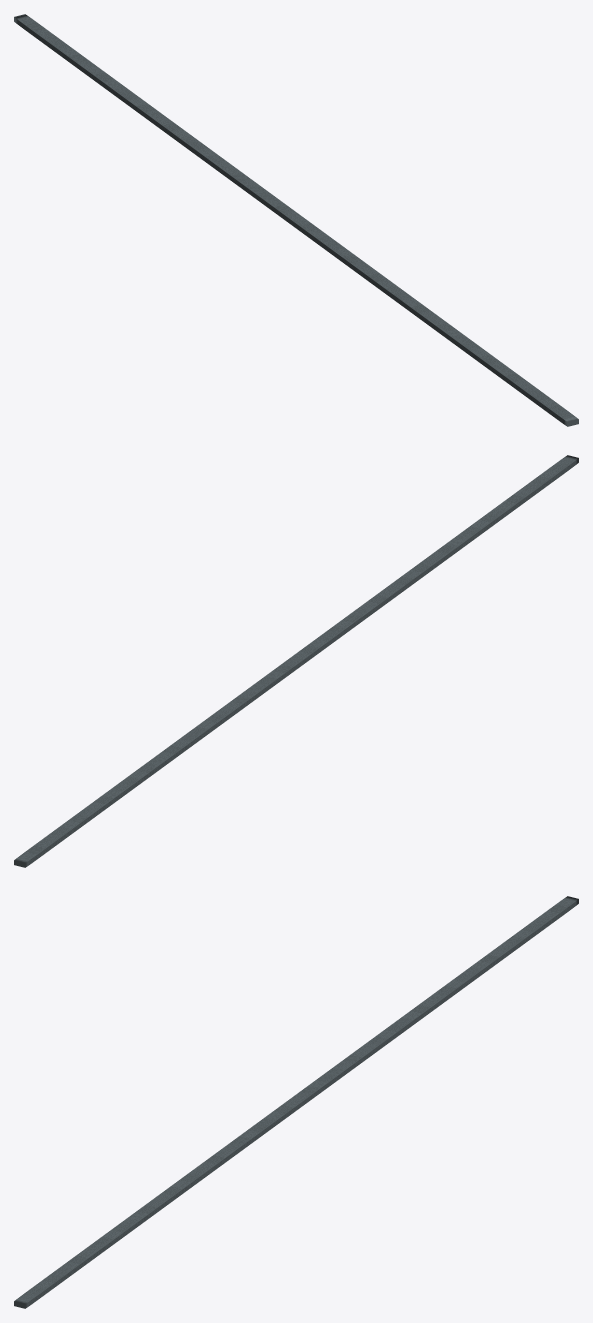
The model's file is expansion.glb.
The picture shows the model from 3 angles, top to bottom: view 1: azimuth 30°, elevation 25°; view 2: azimuth 150°, elevation 25°; view 3: azimuth 330°, elevation 25°; orthographic projection.
Parts seen in each view (by area): view 1: panel; view 2: panel; view 3: panel.
Part boxes in pixels (x1,y1,x2,y2): panel: (14, 14, 578, 426); panel: (14, 455, 578, 867); panel: (14, 896, 578, 1308).
Bounding box in the file's own units: 0.025 × 0.01 × 2.
Materials: 1 (1 with a texture image).
